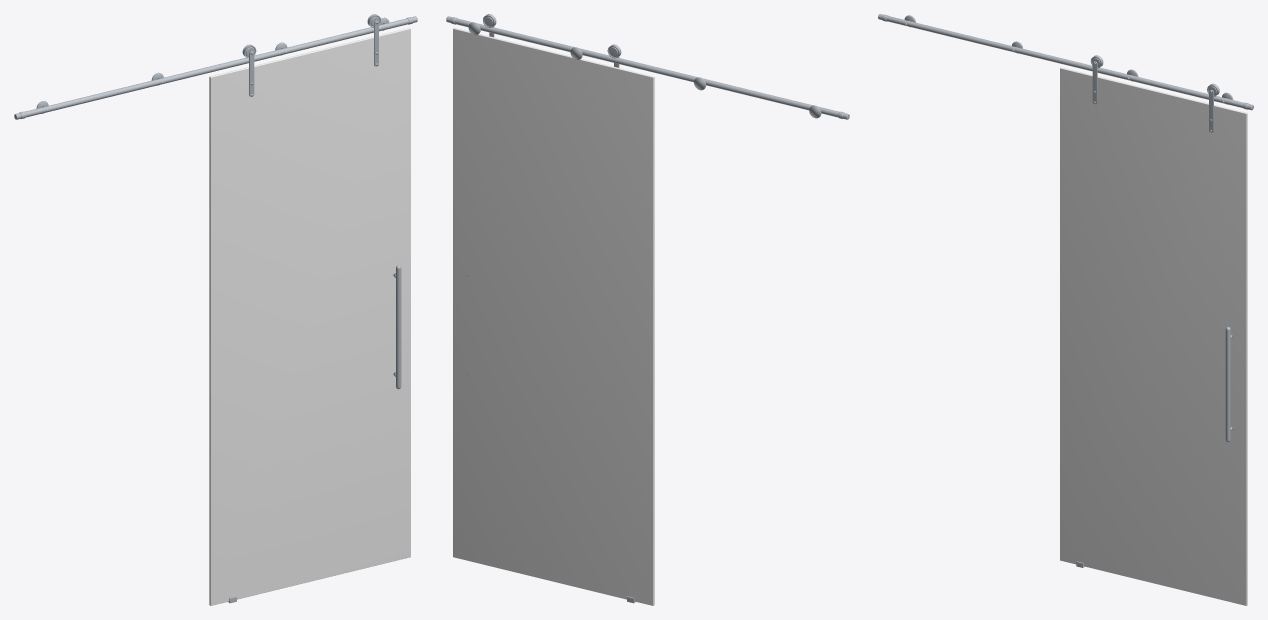
File: A23DMOD_FBX.fbx
3 renders of one model, left to right at view 1: azimuth 30°, elevation 25°; view 2: azimuth 150°, elevation 25°; view 3: azimuth 330°, elevation 25°, orthographic. The views are drawn at different scales.
Visible parts, largest first — view 1: A23DOBJ_002, A23DOBJ_001; view 2: A23DOBJ_002, A23DOBJ_001; view 3: A23DOBJ_002, A23DOBJ_001.
Boxes of the visible parts, x1,y1,x2,y2 form: A23DOBJ_002: (209, 14, 410, 605); A23DOBJ_001: (14, 16, 417, 119); A23DOBJ_002: (453, 14, 654, 605); A23DOBJ_001: (446, 16, 849, 119); A23DOBJ_002: (1060, 55, 1247, 605); A23DOBJ_001: (878, 14, 1253, 110).
Size of the model in its own units: 170 by 224 by 6.5.
2 materials, 2 textured.
